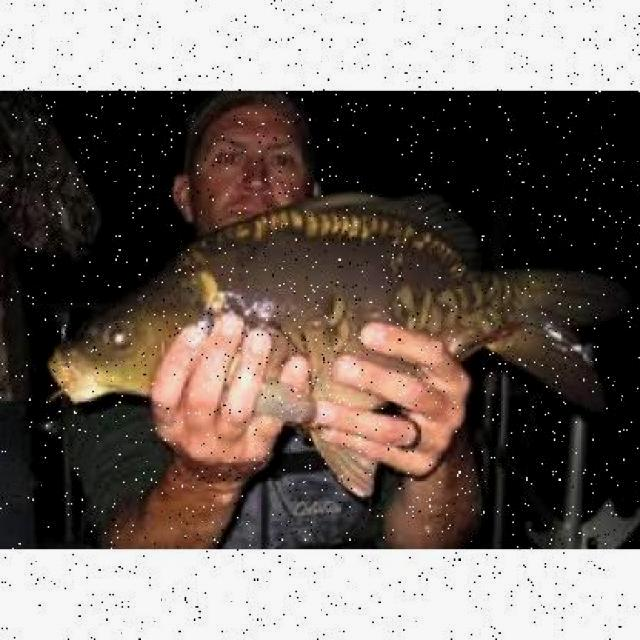ikan-mas: (48, 193, 602, 419)
